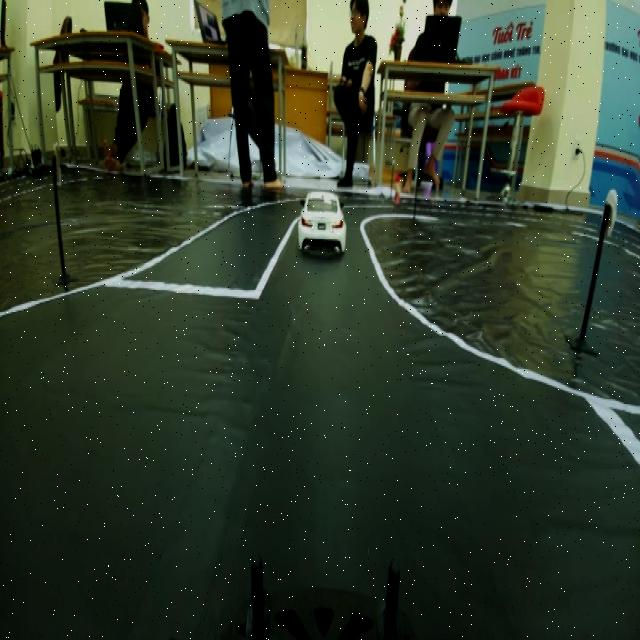car: (291, 180, 353, 265)
